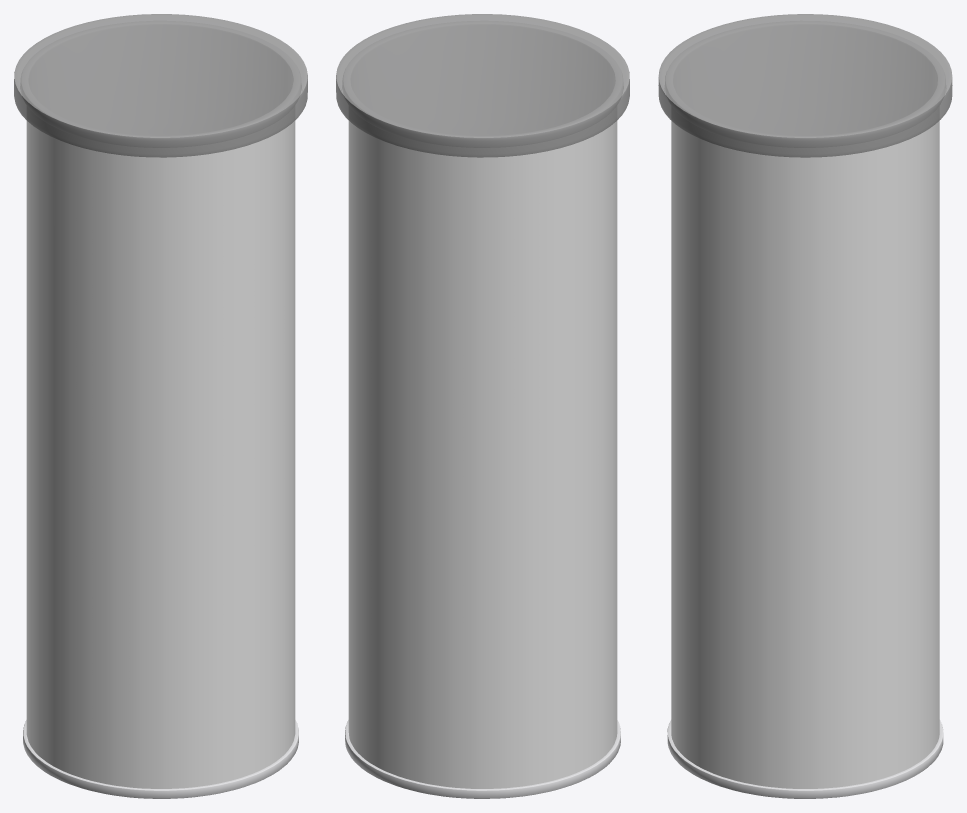
The model's file is Pringo_V2.glb.
The picture shows the model from 3 angles, left to right: view 1: azimuth 30°, elevation 25°; view 2: azimuth 150°, elevation 25°; view 3: azimuth 270°, elevation 25°; orthographic projection.
Visible parts, largest first — view 1: Body, Cap; view 2: Body, Cap; view 3: Body, Cap.
Boxes of the visible parts, x1,y1,x2,y2 form: Body: (21, 21, 300, 798); Cap: (14, 14, 307, 157); Body: (343, 21, 622, 798); Cap: (336, 14, 629, 157); Body: (665, 21, 945, 798); Cap: (658, 14, 952, 157).
Size of the model in its own units: 0.0781 by 0.195 by 0.0781.
Materials: 3 (1 with a texture image).
